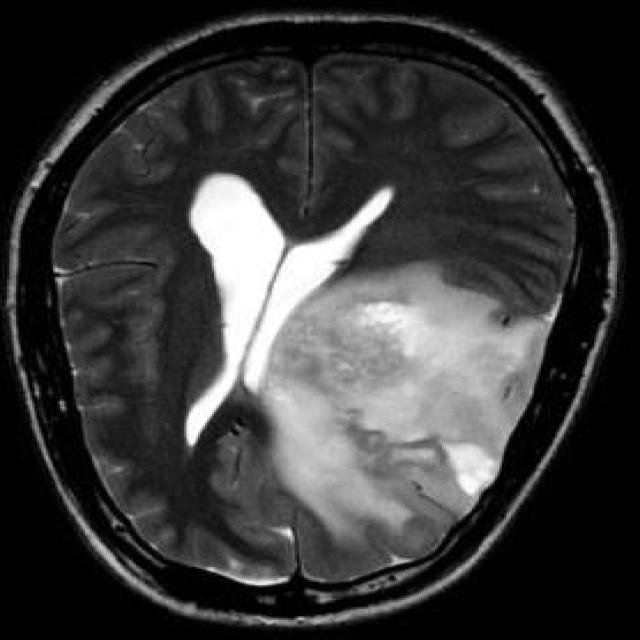Tumor-Cell: (262, 272, 530, 553)
